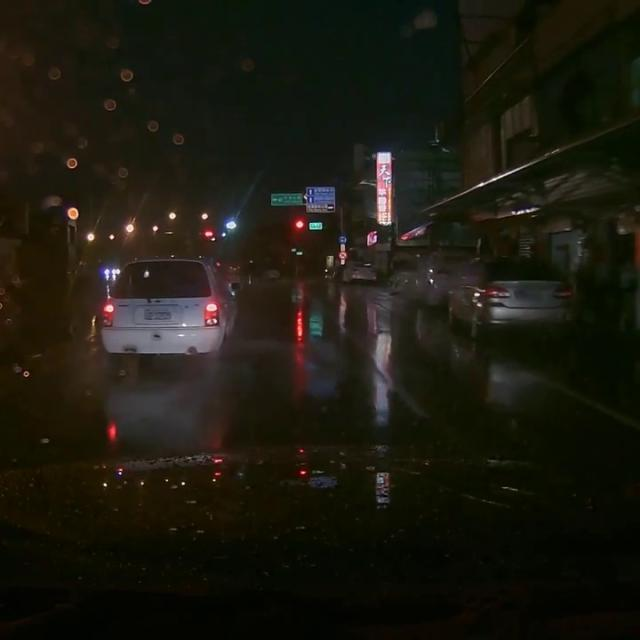Car: (95, 255, 236, 369), (444, 255, 572, 340), (418, 257, 467, 306), (337, 263, 380, 285)
